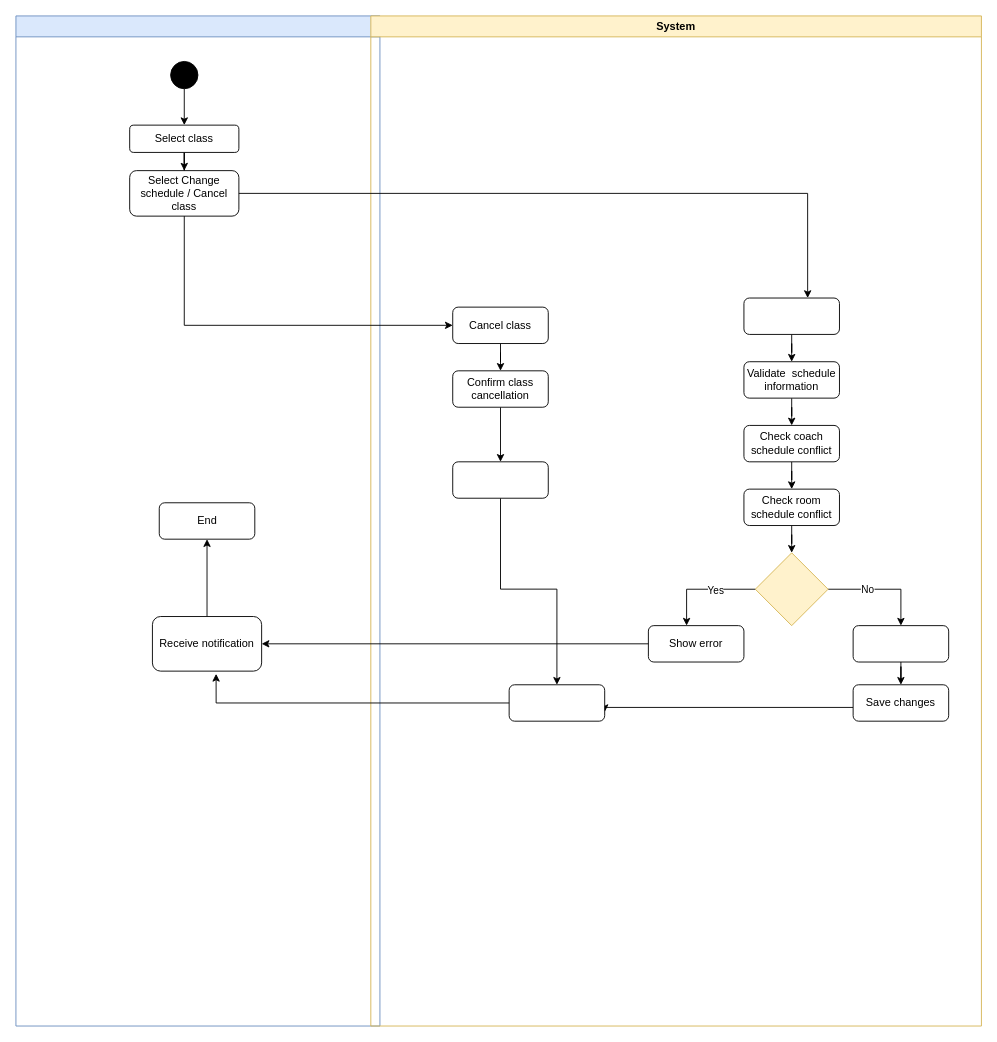
The diagram is 997 pixels wide and 1042 high, and some of its shapes have lost their labels. The box of each missing label's shape, as (x1, y1, x2, y2) in pixels:
CENTER MANAGER: (15, 15, 380, 1026)
Change schedule: (743, 297, 839, 334)
Conflict found?: (754, 552, 828, 626)
Show success message: (508, 684, 605, 721)
Update class schedule: (852, 625, 949, 662)
Update class status: (452, 461, 548, 498)
